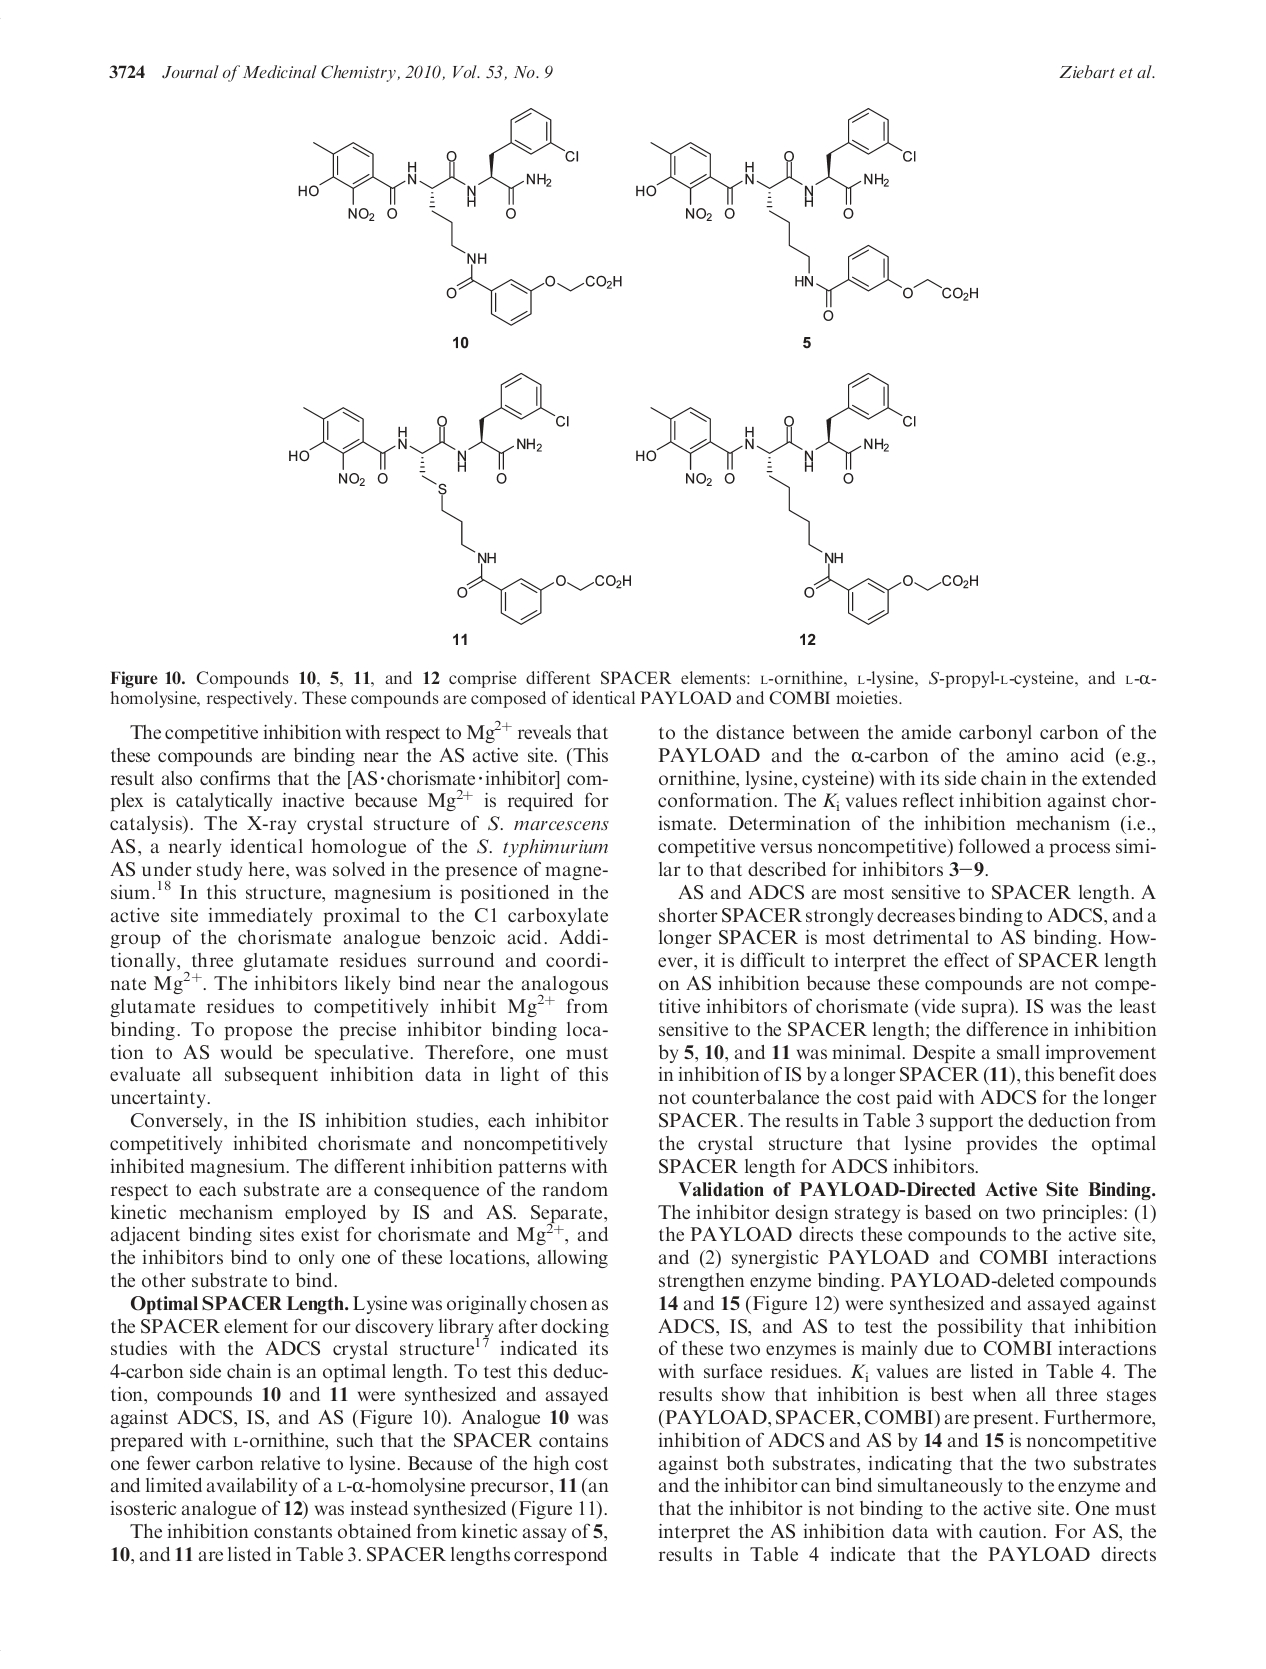exist_molecular: (281, 364, 640, 624), (630, 370, 983, 626), (632, 100, 989, 324), (293, 102, 626, 327)
